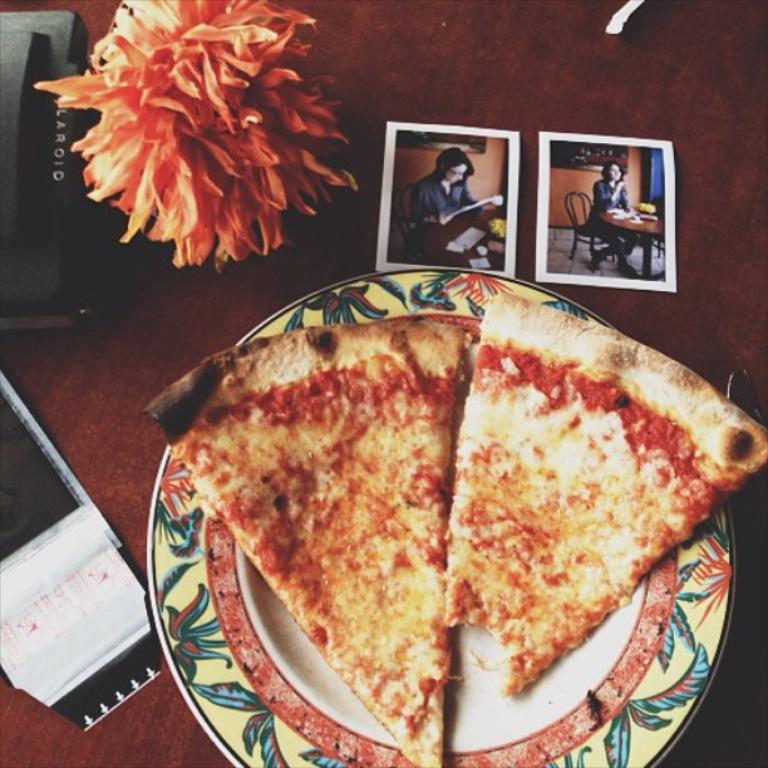Pizza: (146, 322, 464, 766), (441, 287, 766, 693)
